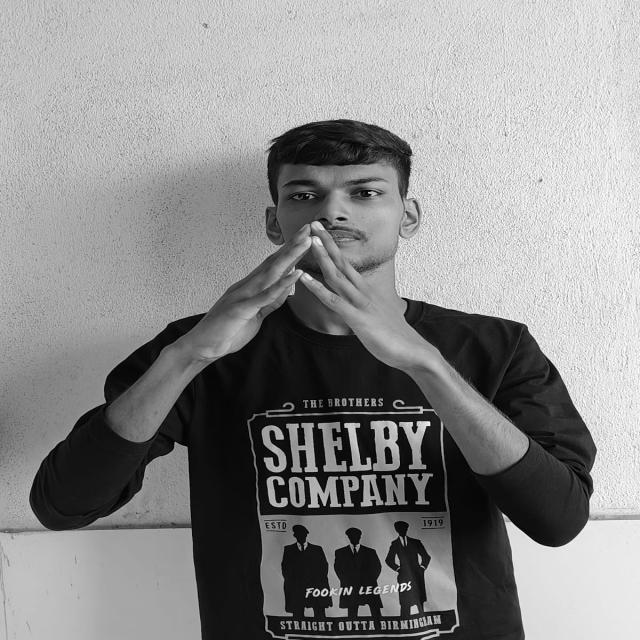Home: (201, 222, 412, 362)
